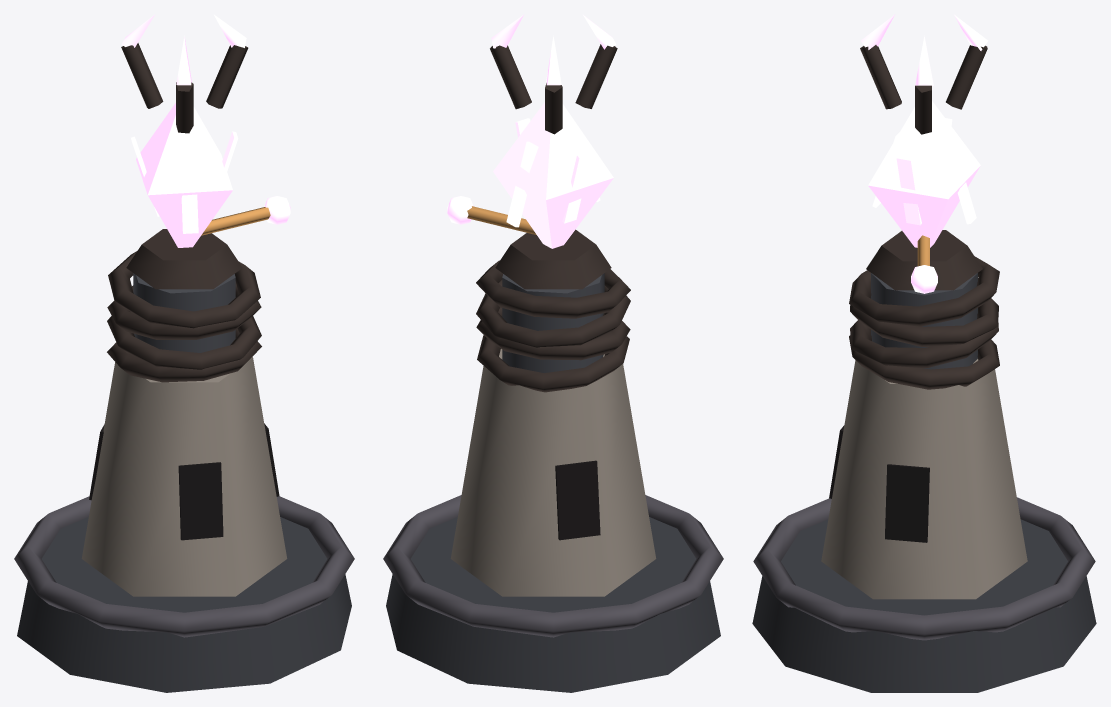
The model's file is tower_chain_thunder.glb.
3 views of the same model, side by side, from view 1: azimuth 30°, elevation 25°; view 2: azimuth 150°, elevation 25°; view 3: azimuth 270°, elevation 25° (orthographic).
Visible parts, largest first — view 1: shaft, base, base_rim, crystal_core, cap, coil_3, coil_core, scorch_1, coil_1, coil_2, coil_0, claw_0 (+5 smaller); view 2: shaft, base, base_rim, crystal_core, cap, coil_3, coil_core, scorch_2, coil_0, coil_2, coil_1, claw_0 (+6 smaller); view 3: shaft, base, base_rim, crystal_core, cap, coil_3, scorch_0, coil_0, coil_2, coil_1, coil_core, claw_1 (+5 smaller).
Part boxes in pixels (x1,y1,x2,y2): shaft: (81, 357, 287, 596); base: (17, 517, 351, 692); base_rim: (14, 496, 354, 637); crystal_core: (136, 103, 232, 247); cap: (126, 229, 242, 289); coil_3: (108, 251, 260, 328); coil_core: (133, 273, 235, 352); scorch_1: (178, 462, 223, 540); coil_1: (107, 315, 261, 369); coil_2: (107, 281, 261, 339); coil_0: (107, 328, 261, 382); claw_0: (206, 45, 248, 108); shaft: (450, 349, 656, 596); base: (386, 517, 720, 692); base_rim: (383, 495, 723, 637); crystal_core: (493, 102, 613, 248); cap: (495, 229, 611, 289); coil_3: (476, 260, 630, 318); coil_core: (502, 273, 604, 372); scorch_2: (555, 460, 600, 540); coil_0: (477, 335, 629, 392); coil_2: (476, 280, 630, 347); coil_1: (476, 307, 630, 360); claw_0: (490, 45, 531, 109); shaft: (821, 359, 1027, 599); base: (752, 519, 1096, 692); base_rim: (753, 497, 1095, 640); crystal_core: (868, 101, 980, 247); cap: (866, 230, 982, 290); coil_3: (849, 256, 999, 326); scorch_0: (885, 464, 929, 542); coil_0: (849, 335, 999, 389); coil_2: (850, 298, 998, 346); coil_1: (850, 320, 998, 367); coil_core: (871, 273, 977, 369); claw_1: (860, 45, 901, 109).
Size of the model in its own units: 0.398 by 0.773 by 0.4.
